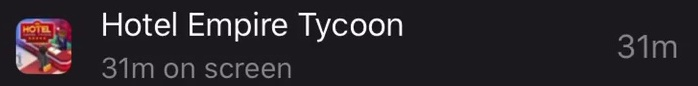name: (94, 5, 410, 45)
time: (97, 53, 159, 86)
